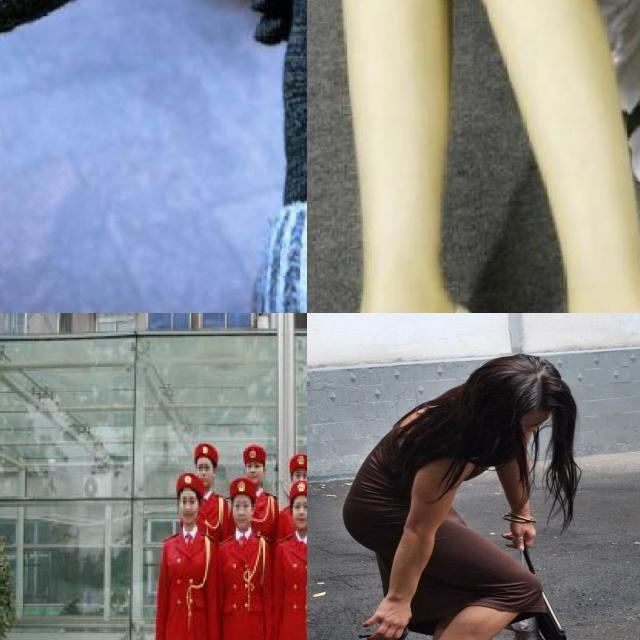face_nomask: (173, 487, 200, 525), (233, 495, 253, 530), (291, 496, 307, 531)
head_nohelmet: (170, 470, 204, 496), (239, 443, 270, 468), (229, 476, 255, 502), (193, 442, 220, 466), (288, 478, 307, 504), (288, 451, 307, 477)
person: (208, 465, 271, 640), (146, 465, 206, 640), (274, 473, 307, 640)
